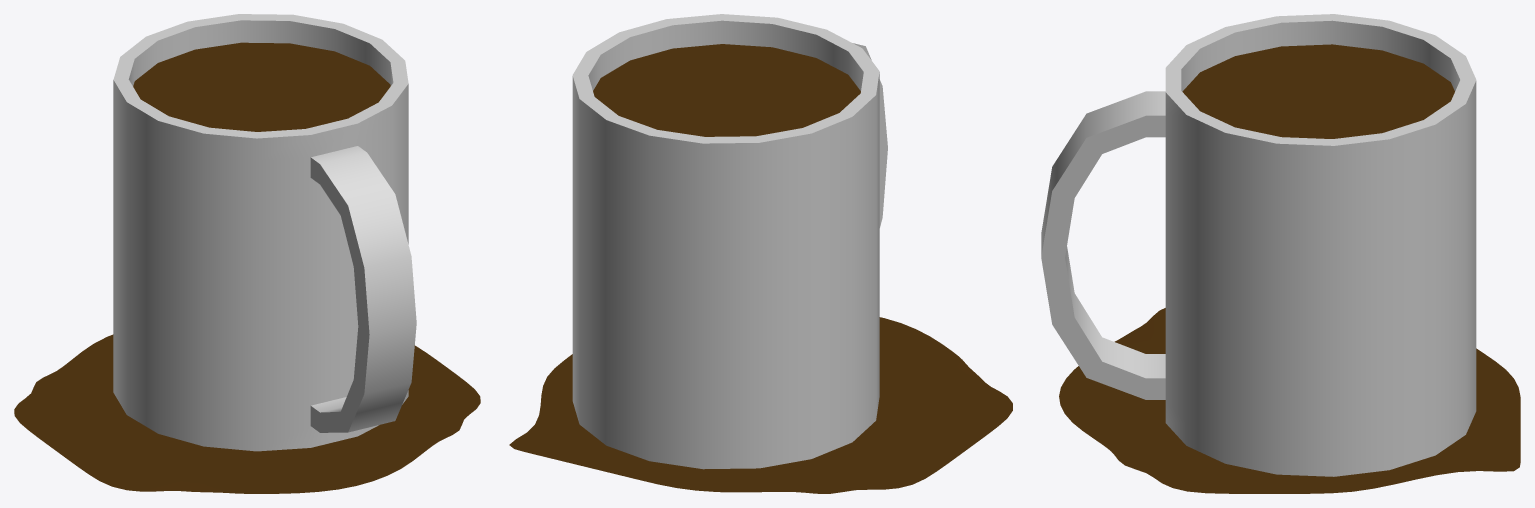
The model's file is coffe.fbx.
3 renders of one model, left to right at view 1: azimuth 30°, elevation 25°; view 2: azimuth 150°, elevation 25°; view 3: azimuth 270°, elevation 25°, orthographic. The views are drawn at different scales.
Parts seen in each view (by area): view 1: Cylinder.003, Plane; view 2: Cylinder.003, Plane; view 3: Cylinder.003, Plane.
Boxes of the visible parts, x1,y1,x2,y2 form: Cylinder.003: [113, 14, 416, 451]; Plane: [14, 334, 480, 493]; Cylinder.003: [572, 14, 887, 469]; Plane: [509, 317, 1012, 493]; Cylinder.003: [1041, 14, 1476, 476]; Plane: [1059, 308, 1520, 493].
Size of the model in its own units: 199 by 157 by 206.
